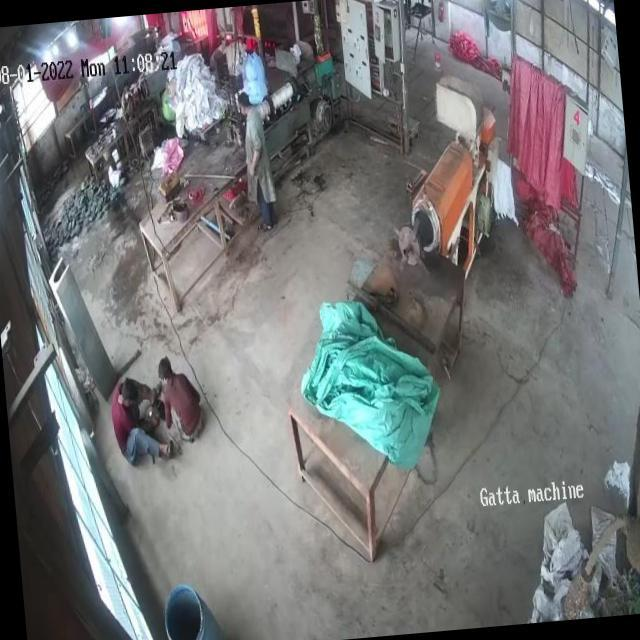person: (105, 374, 168, 486), (242, 88, 276, 223), (152, 355, 205, 434)
